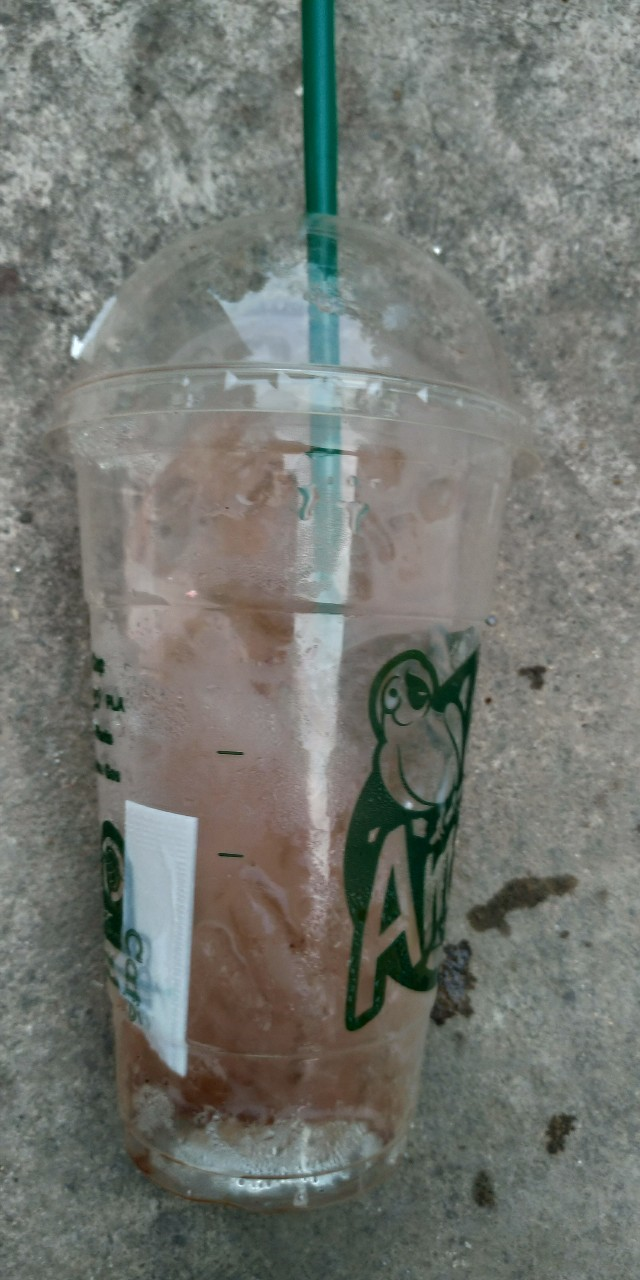PlasticCup: (54, 206, 544, 1221)
